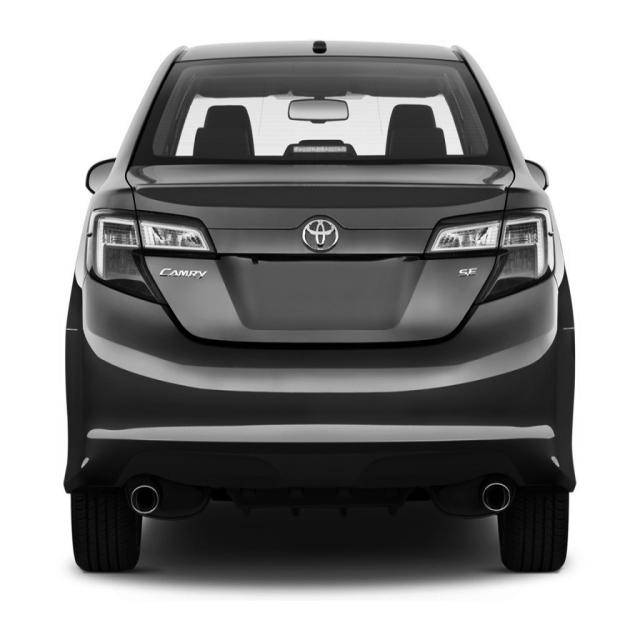car: (63, 38, 577, 574)
